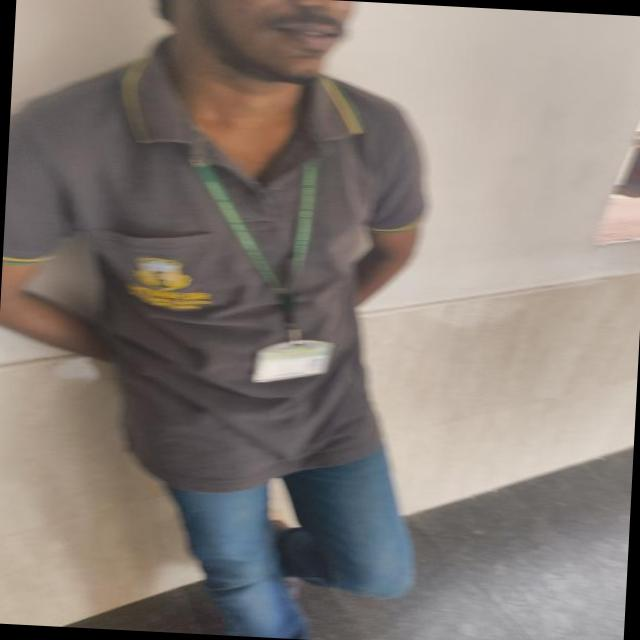id_card: (182, 166, 357, 391)
